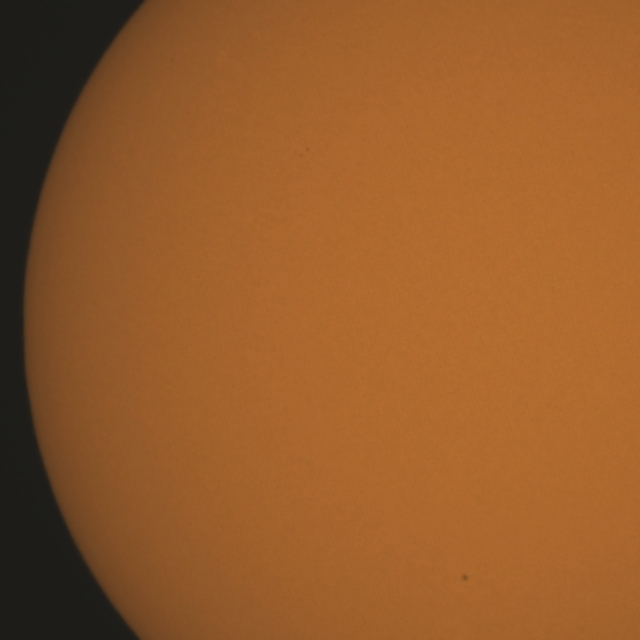sunspot: (299, 147, 310, 159), (460, 572, 470, 584)
